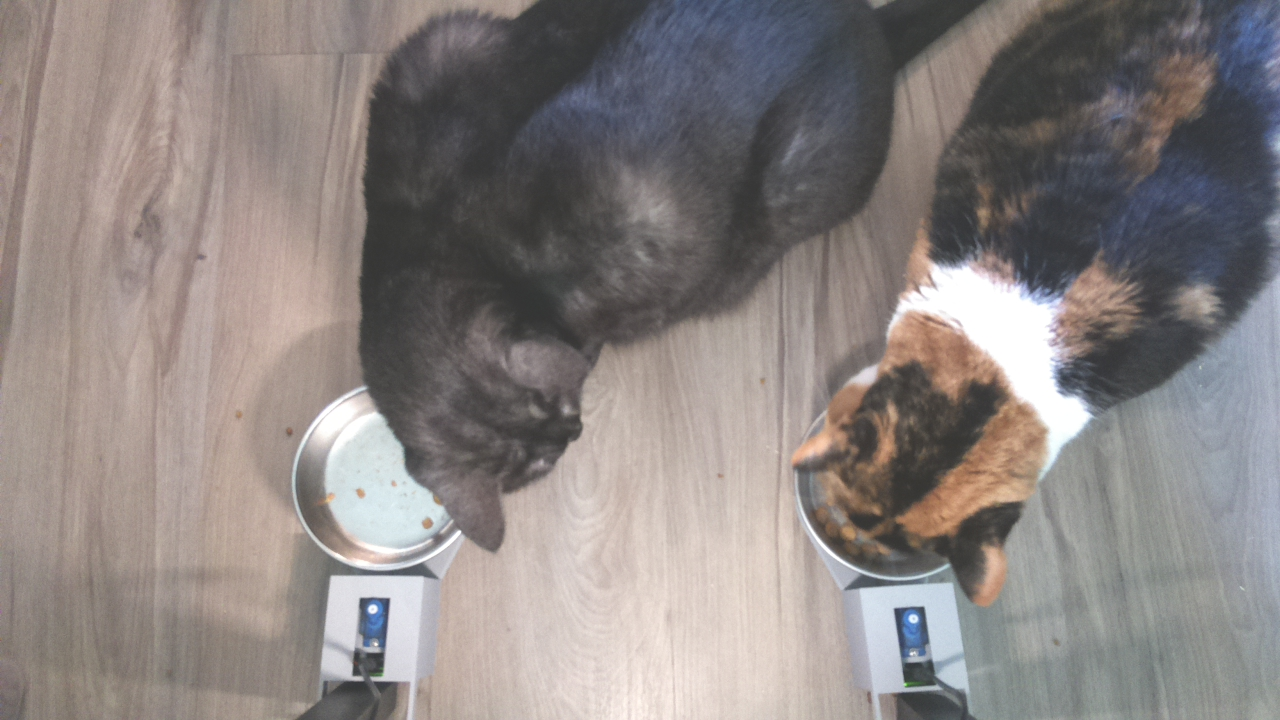bella_eating: (786, 272, 1066, 611)
open_bowl: (289, 377, 458, 576)
